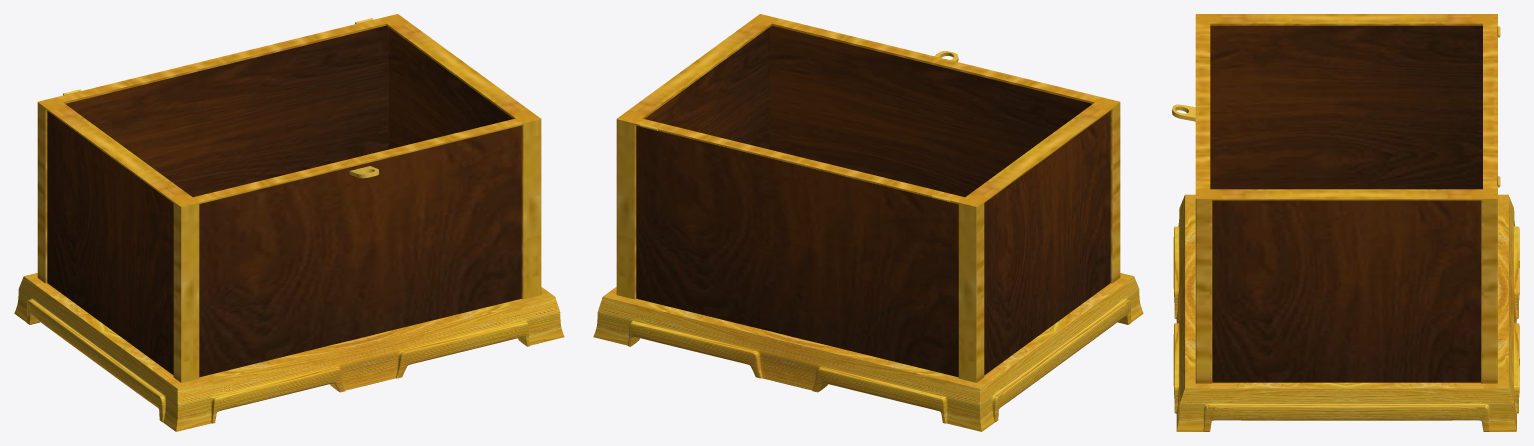
File: chest_base.glb
The picture shows the model from 3 angles, left to right: view 1: azimuth 30°, elevation 25°; view 2: azimuth 150°, elevation 25°; view 3: azimuth 270°, elevation 25°; orthographic projection. The views are drawn at different scales.
Visible parts, largest first — view 1: chest; view 2: chest; view 3: chest.
Boxes of the visible parts, x1,y1,x2,y2 form: chest: [14, 14, 564, 431]; chest: [593, 14, 1143, 431]; chest: [1172, 14, 1519, 431].
Bounding box in the file's own units: 3.34 × 1.76 × 2.44.
2 materials, 2 textured.
